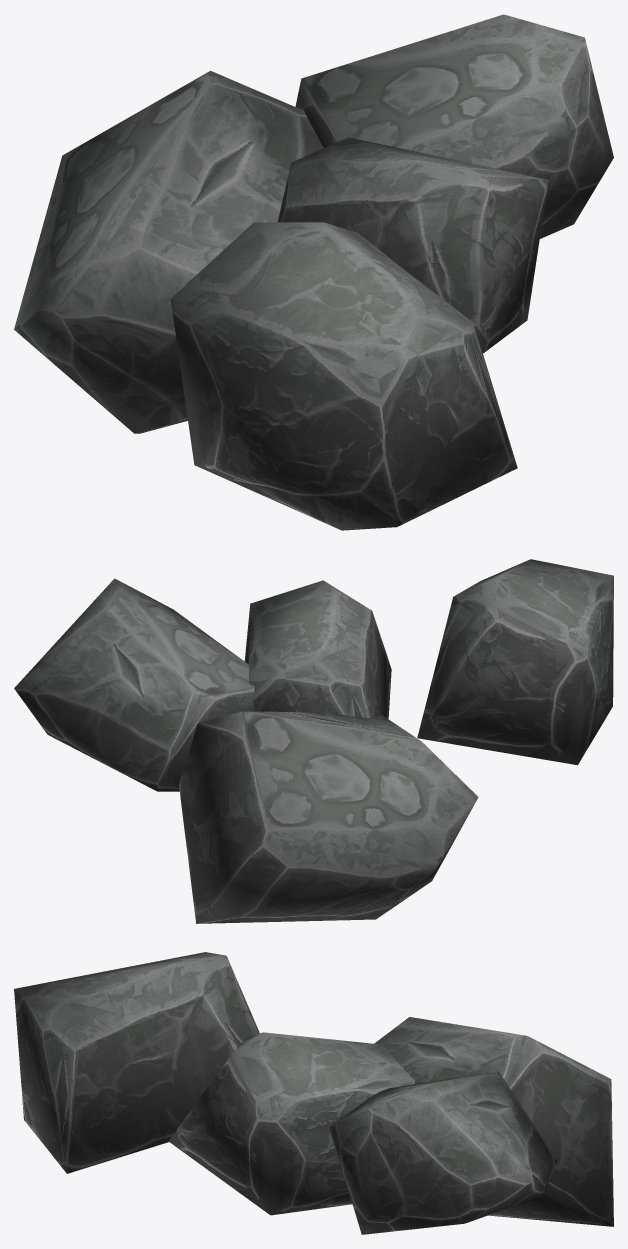
Rendered from RocksBridge.FBX.
3 views of the same model, one above another, from view 1: azimuth 30°, elevation 25°; view 2: azimuth 150°, elevation 25°; view 3: azimuth 270°, elevation 25° (orthographic). The views are drawn at different scales.
Parts seen in each view (by area): view 1: Object3658; view 2: Object3658; view 3: Object3658.
Boxes of the visible parts, x1,y1,x2,y2 form: Object3658: (14,14,613,530); Object3658: (14,559,613,923); Object3658: (14,952,613,1234).
Size of the model in its own units: 0.0121 by 0.00677 by 0.0142.
